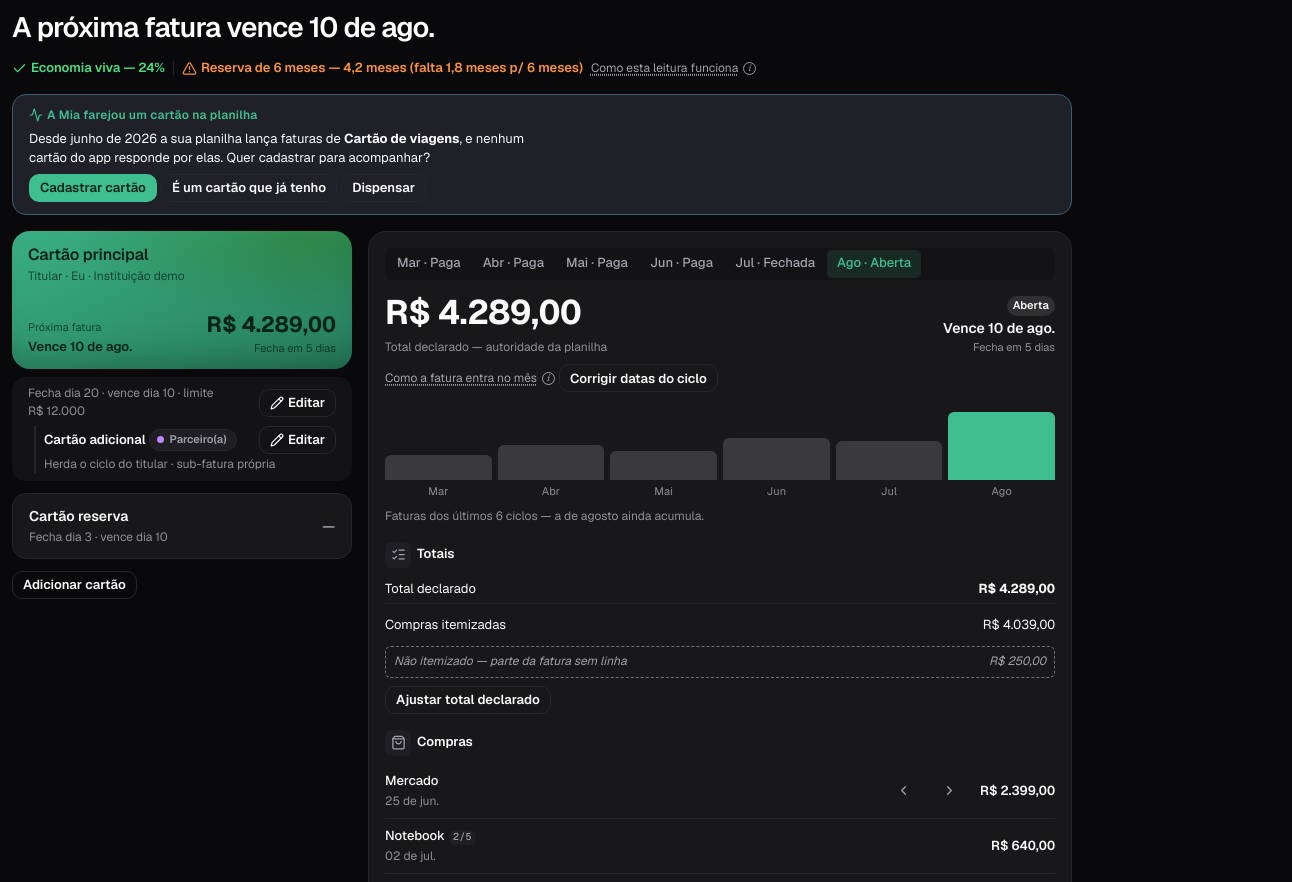
Cartões › fatura sem itens rende como lump — sem zero fabricado nem reconciliação cheia
The image size is (1292, 882).
Click the radio button labelled "Jul · Fechada" at coordinates (775, 264), box [725,250,825,278]
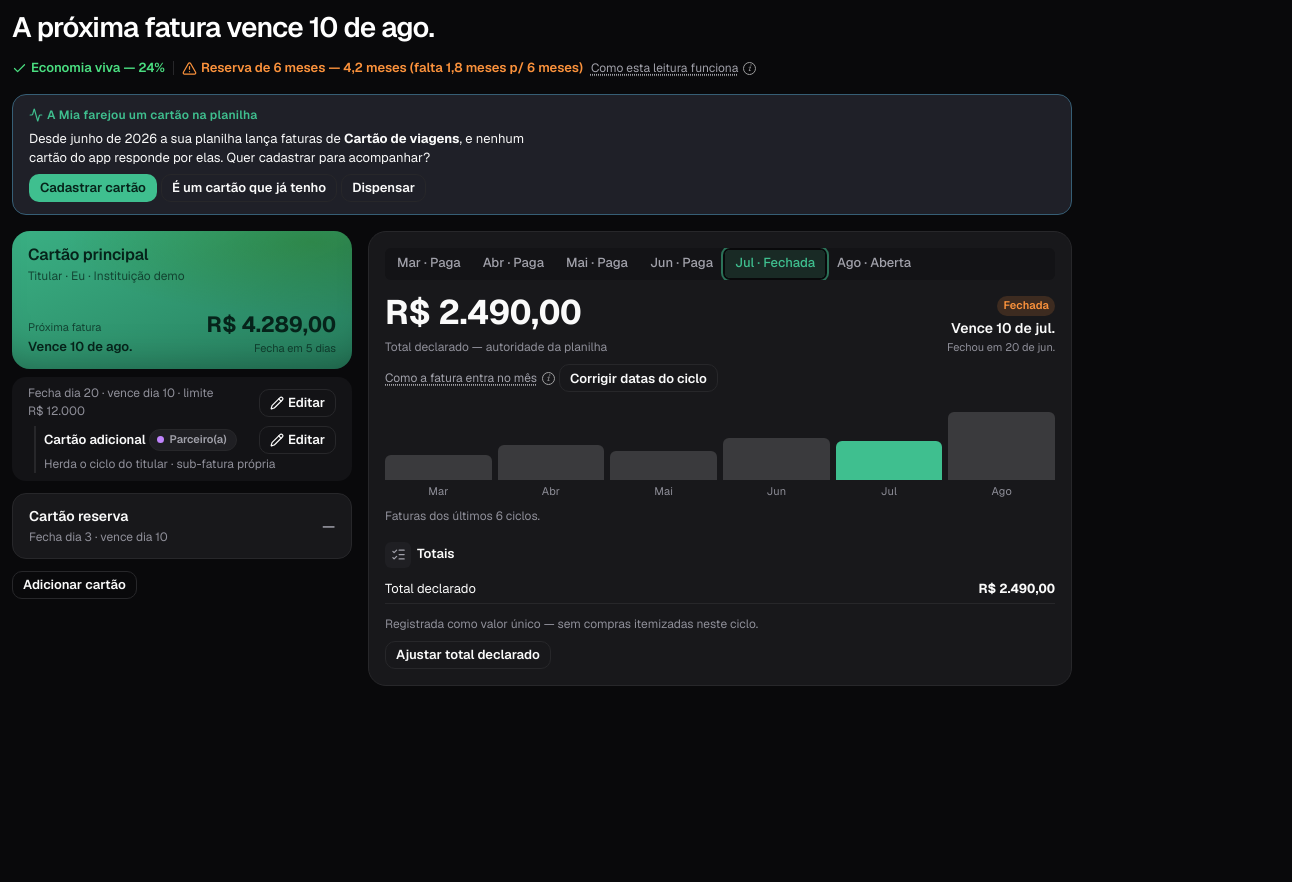
Result: the text "Registrada como valor único — sem compras itemizadas neste ciclo." is shown at [385,616,758,632]
Result: the text "Não itemizado" is gone
Result: the text "Fechou em 20 de jun." is shown at [947,340,1055,356]
